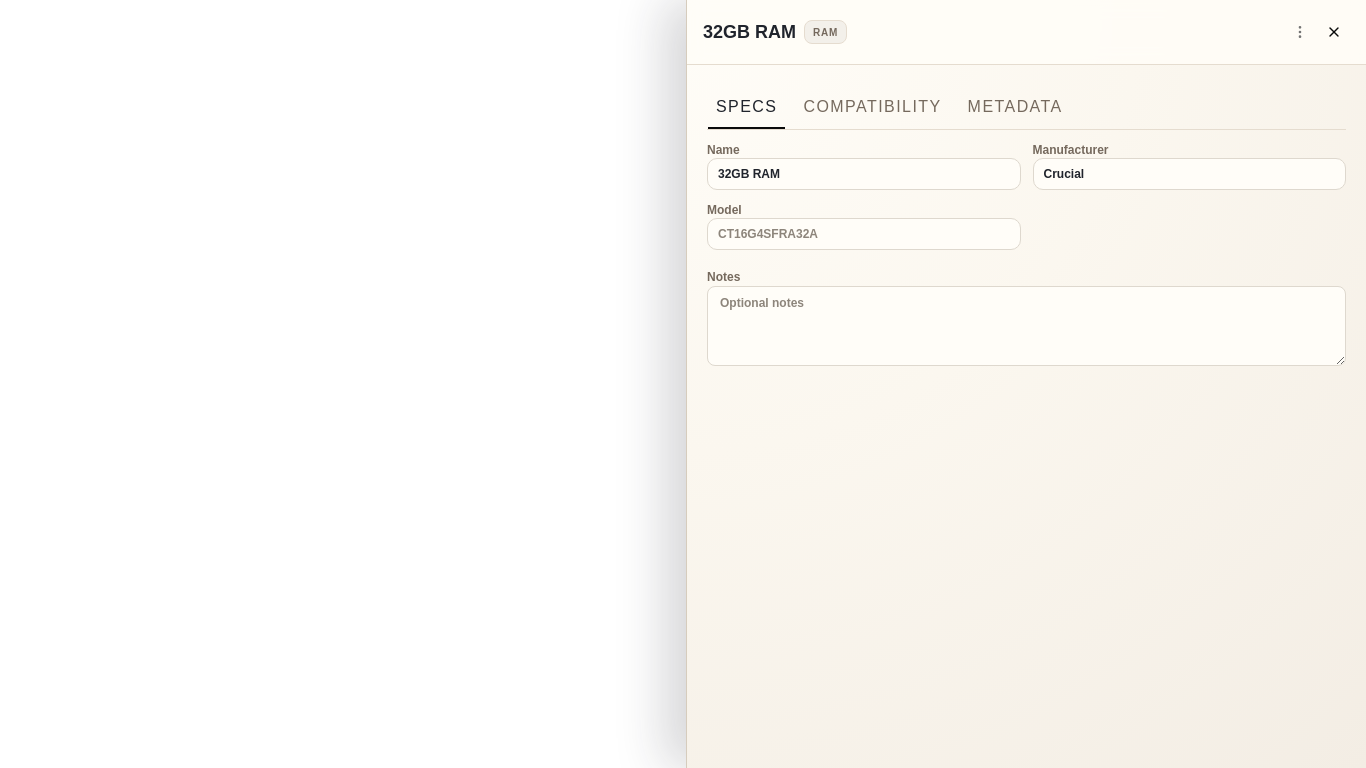
Test: InspectorPanel › renders RAM in the reusable tabbed editor
Expected: the heading "32GB RAM" is shown, top-left (703, 18), bottom-right (796, 46)
Expected: the field labelled "Manufacturer" holds "Crucial", top-left (1032, 158), bottom-right (1346, 190)
Click the tab "Compatibility" at (873, 107), box top-left (794, 89), bottom-right (951, 125)
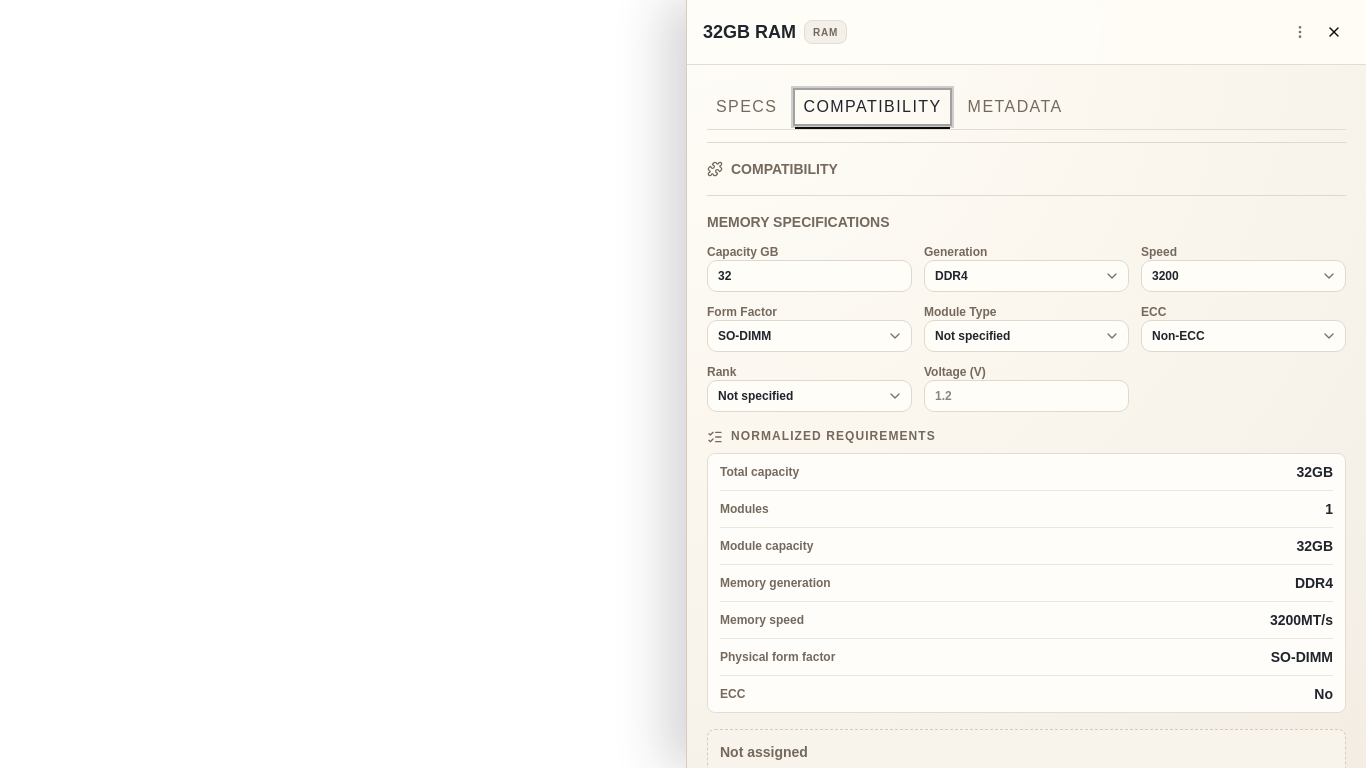
Now the number field labelled "Capacity GB" holds "32", box top-left (707, 260), bottom-right (912, 292)
Now the dropdown named "Generation" reads "DDR4", box top-left (924, 260), bottom-right (1129, 292)
Now the dropdown named "Speed" reads "3200", box top-left (1141, 260), bottom-right (1346, 292)
